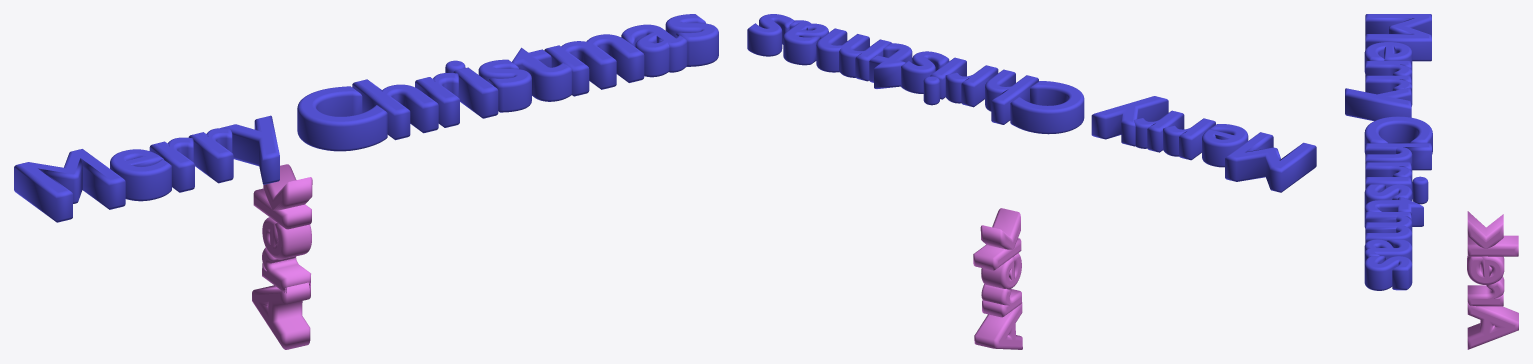
File: Arek.glb
3 renders of one model, left to right at view 1: azimuth 30°, elevation 25°; view 2: azimuth 150°, elevation 25°; view 3: azimuth 270°, elevation 25°, orthographic. The views are drawn at different scales.
Parts seen in each view (by area): view 1: Text, Text.001; view 2: Text, Text.001; view 3: Text, Text.001.
Boxes of the visible parts, x1=… form: Text: x1=14, y1=14, x2=718, y2=222; Text.001: x1=252, y1=164, x2=312, y2=349; Text: x1=747, y1=14, x2=1316, y2=192; Text.001: x1=973, y1=208, x2=1022, y2=349; Text: x1=1345, y1=14, x2=1432, y2=290; Text.001: x1=1467, y1=211, x2=1518, y2=349.
Size of the model in its own units: 9.52 by 3.74 by 2.73.
